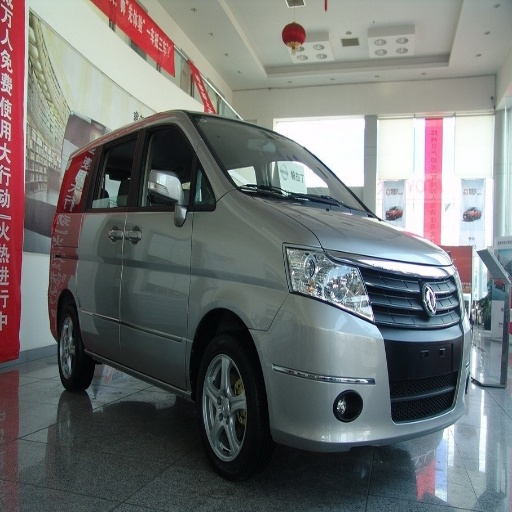front_bumper: (255, 259, 469, 451)
front_right_door: (120, 122, 210, 380)
front_right_light: (284, 244, 373, 320)
